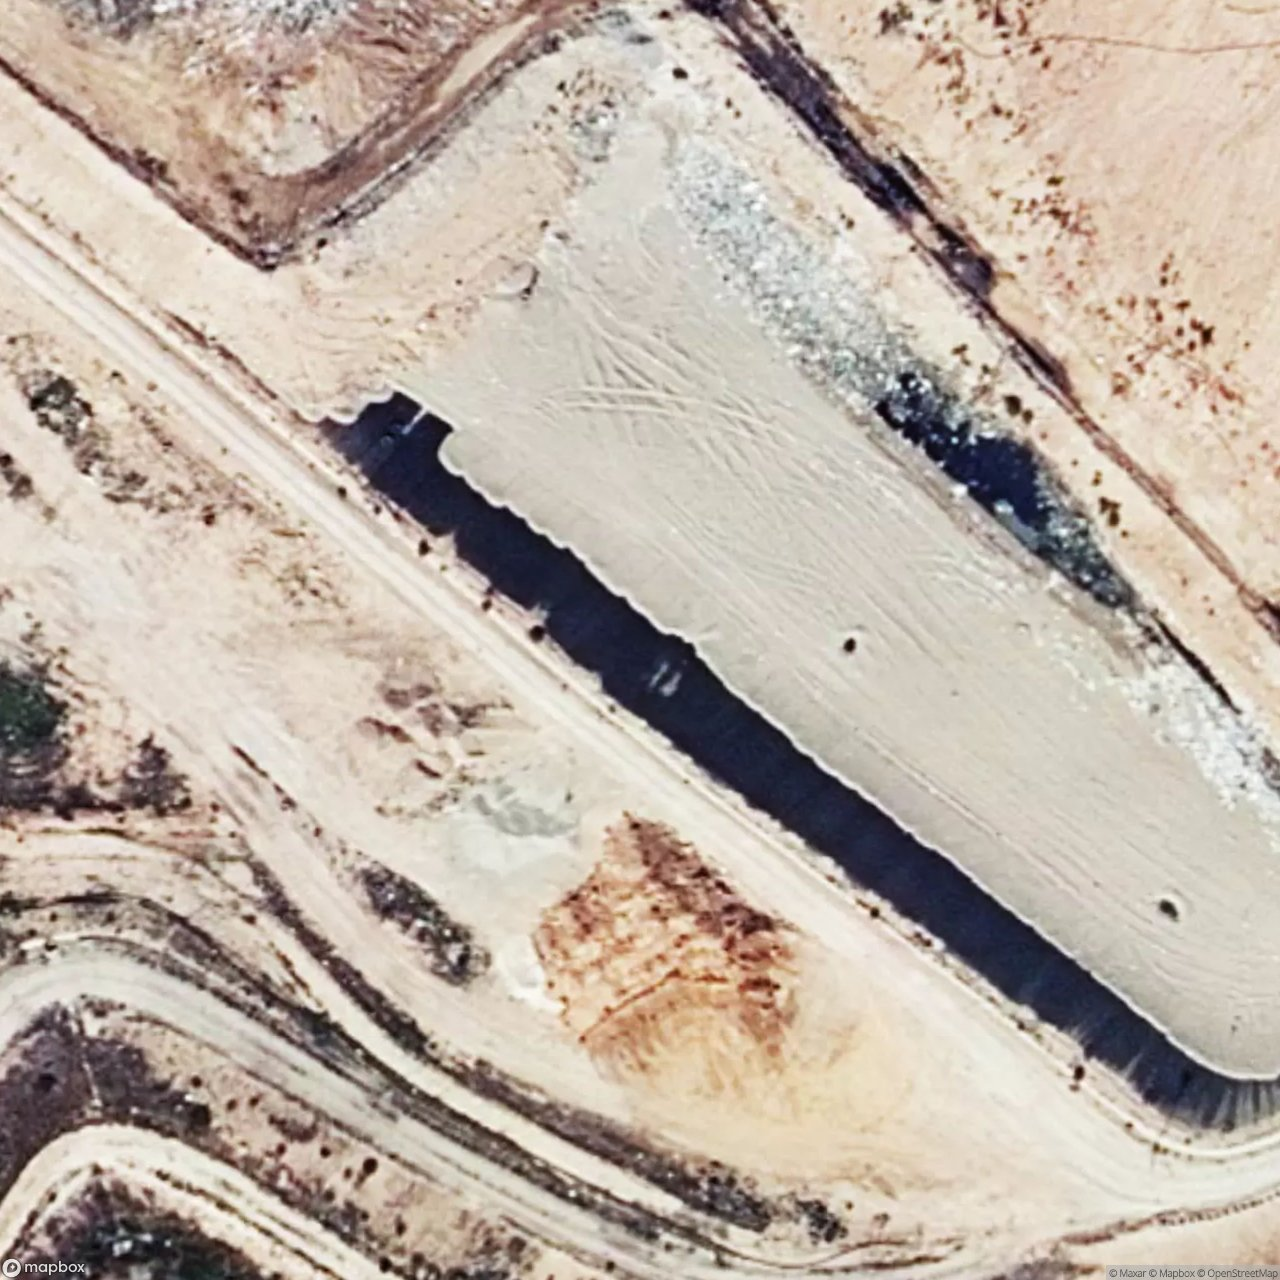dump_site: (501, 821, 823, 1049)
